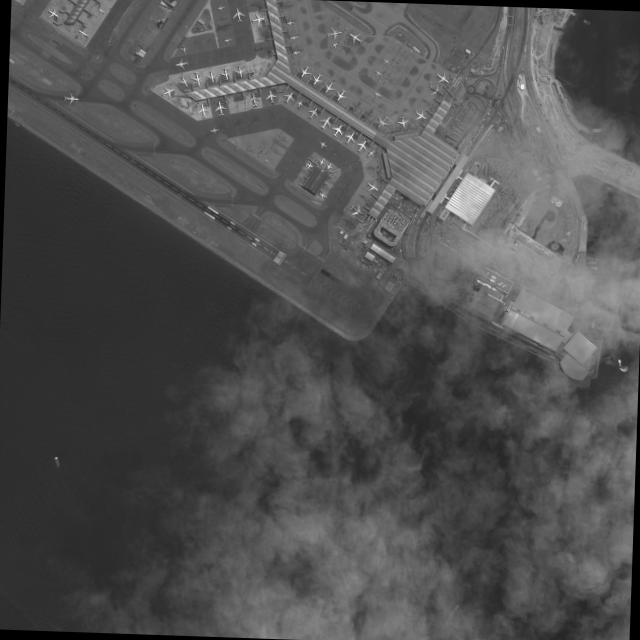plane: (373, 111, 392, 132), (316, 112, 335, 132), (432, 68, 451, 88), (43, 3, 62, 22), (347, 201, 366, 220), (346, 28, 365, 46), (425, 81, 444, 99), (328, 121, 346, 139), (411, 105, 429, 123), (353, 136, 370, 155), (230, 5, 247, 24), (308, 68, 325, 87), (341, 128, 358, 146), (320, 77, 337, 95), (324, 26, 343, 42), (175, 72, 192, 89), (75, 25, 92, 42), (364, 178, 381, 195), (296, 63, 313, 80), (189, 69, 205, 87), (304, 104, 320, 121), (333, 86, 349, 103), (159, 84, 175, 100), (246, 91, 261, 108), (281, 88, 296, 105), (212, 100, 227, 117), (195, 102, 210, 119), (232, 62, 247, 78), (174, 56, 190, 71), (63, 91, 79, 106), (395, 113, 410, 129), (218, 65, 232, 81), (204, 68, 218, 84), (249, 13, 265, 27), (264, 89, 278, 104), (317, 190, 328, 201), (318, 139, 329, 150), (294, 98, 305, 109), (372, 89, 383, 100), (381, 56, 392, 66), (366, 148, 376, 159), (372, 68, 383, 78), (329, 40, 339, 51), (96, 6, 106, 16), (317, 156, 326, 166), (223, 35, 232, 45), (304, 160, 314, 169), (285, 18, 295, 27), (324, 161, 333, 170), (179, 44, 188, 53), (216, 3, 225, 12), (291, 48, 300, 57), (209, 126, 219, 134), (289, 33, 298, 41)
ship: (450, 603, 460, 615), (53, 456, 60, 467), (582, 18, 591, 25), (603, 185, 613, 191), (588, 265, 599, 270), (600, 124, 605, 135), (617, 359, 621, 367), (587, 261, 597, 264), (601, 358, 610, 361), (603, 356, 610, 359)
